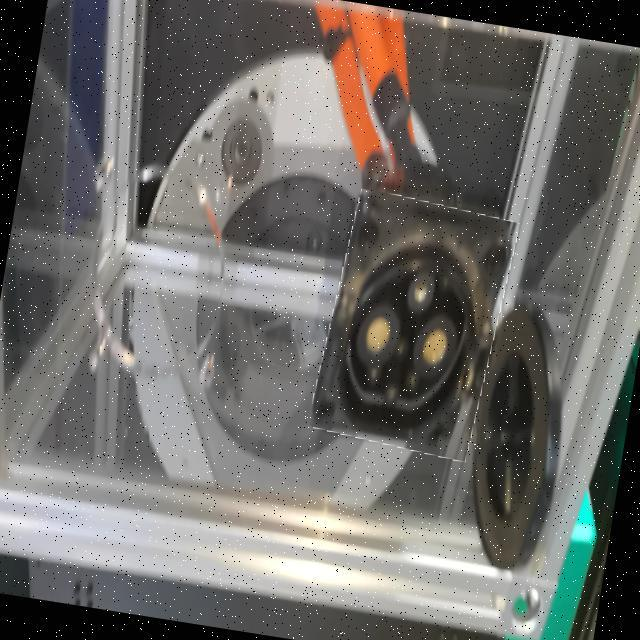GB-T: (330, 216, 492, 444)
